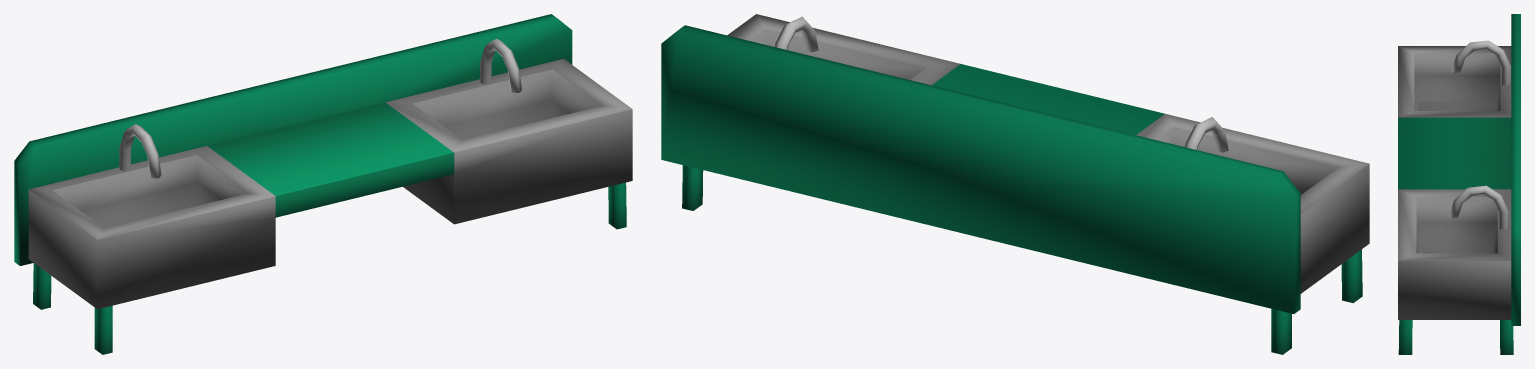
Rendered from LavatorioLab.fbx.
The picture shows the model from 3 angles, left to right: view 1: azimuth 30°, elevation 25°; view 2: azimuth 150°, elevation 25°; view 3: azimuth 270°, elevation 25°; orthographic projection. The views are drawn at different scales.
Parts seen in each view (by area): view 1: lavatorio; view 2: lavatorio; view 3: lavatorio.
Part boxes in pixels (x1,y1,x2,y2): lavatorio: [14, 14, 632, 354]; lavatorio: [661, 14, 1369, 354]; lavatorio: [1398, 14, 1520, 354].
Size of the model in its own units: 210 by 61.54 by 49.09.
